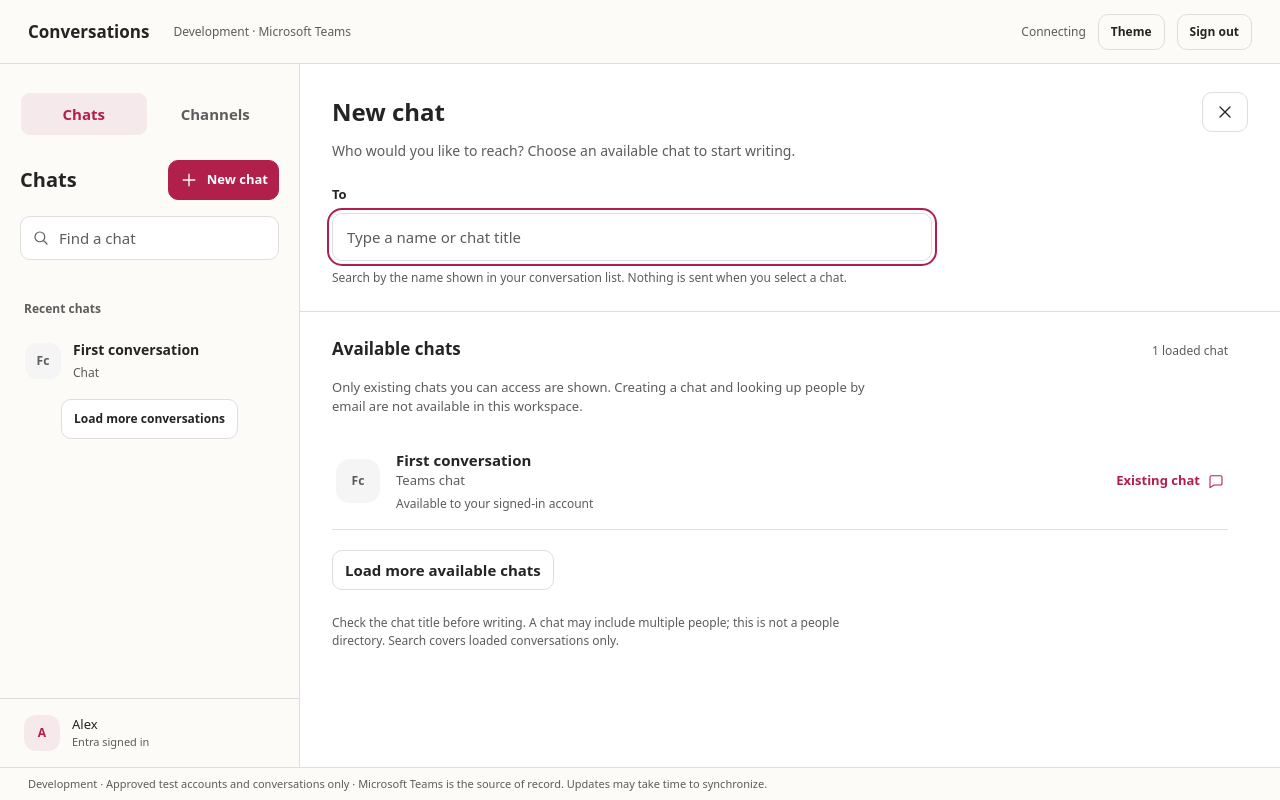
Test case: delivery correctness › loads the next authorized catalog page and keeps live labels distinct
Click the button "Load more conversations". click: (150, 419)
box: [61, 399, 238, 439]
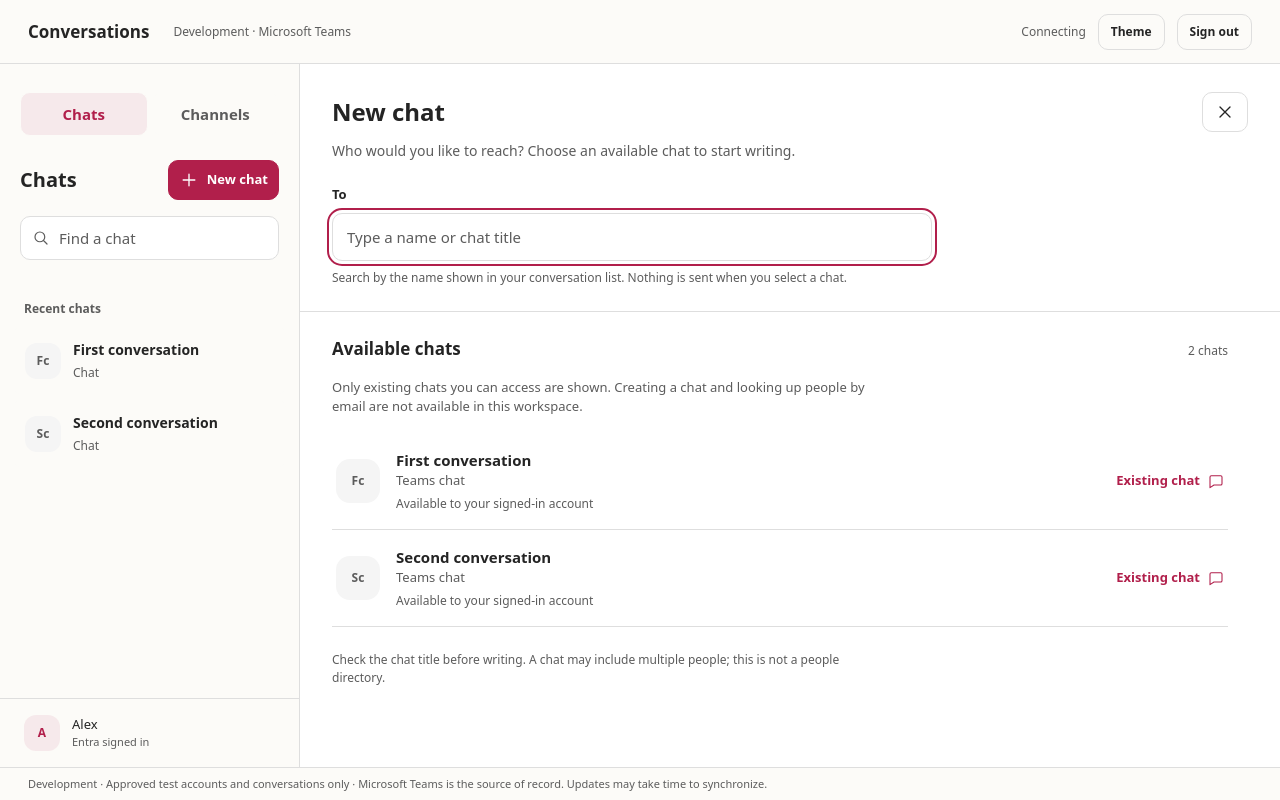
Expected: the text "Development · Microsoft Teams" is shown, [173, 22, 351, 40]
Result: the button "Sc Second conversation Chat" is shown at [12, 399, 287, 468]
Result: the button "Load more conversations" is gone
